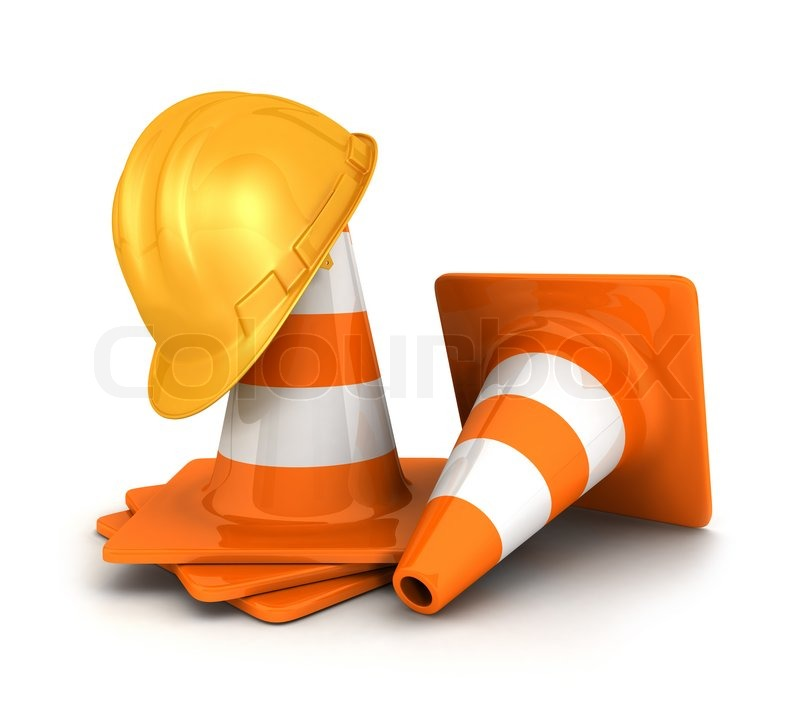orangeC: (391, 243, 724, 630)
